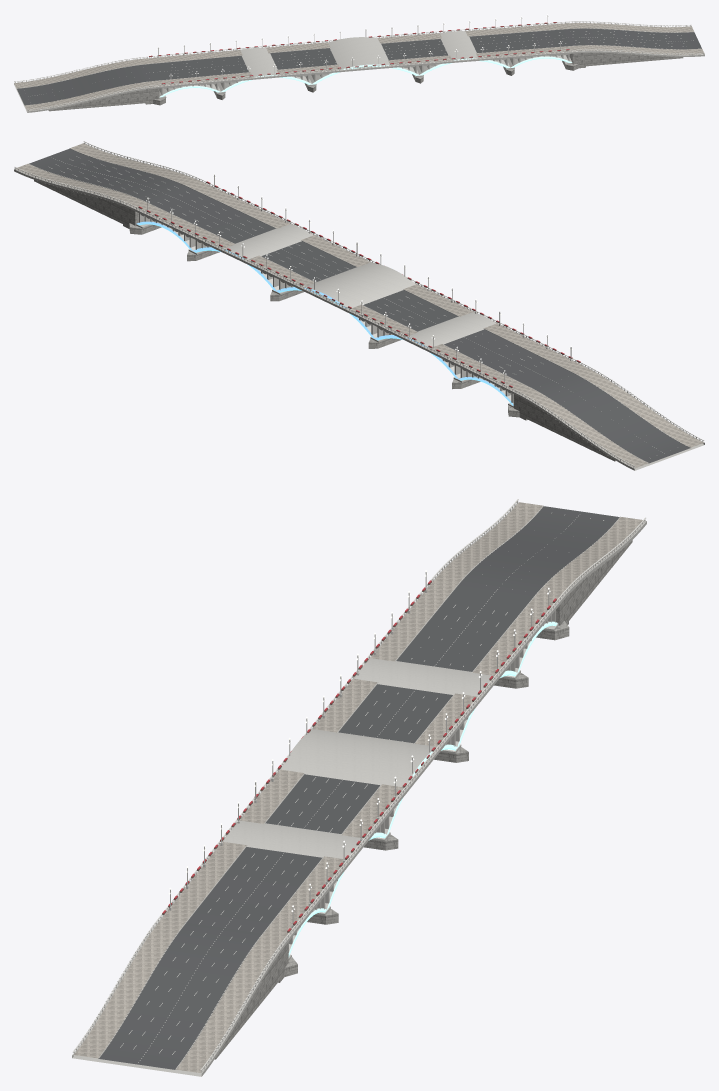
The model's file is jiefangqiao-far.glb.
3 renders of one model, top to bottom at view 1: azimuth 30°, elevation 25°; view 2: azimuth 150°, elevation 25°; view 3: azimuth 270°, elevation 25°, orthographic. The views are drawn at different scales.
Visible parts, largest first — view 1: jiefangqiao-asphalt, jiefangqiao-concrete, jiefangqiao-paving, jiefangqiao-rail, jiefangqiao-stone, jiefangqiao-archface, jiefangqiao-flower, jiefangqiao-planter, jiefangqiao-led, jiefangqiao-marking; view 2: jiefangqiao-asphalt, jiefangqiao-paving, jiefangqiao-concrete, jiefangqiao-rail, jiefangqiao-stone, jiefangqiao-archface, jiefangqiao-flower, jiefangqiao-planter; view 3: jiefangqiao-asphalt, jiefangqiao-paving, jiefangqiao-concrete, jiefangqiao-rail, jiefangqiao-stone, jiefangqiao-flower, jiefangqiao-archface.
Part boxes in pixels (x1,y1,x2,y2): jiefangqiao-asphalt: (17,28,701,105); jiefangqiao-concrete: (14,23,704,112); jiefangqiao-paving: (14,23,704,110); jiefangqiao-rail: (14,15,704,110); jiefangqiao-stone: (48,52,683,111); jiefangqiao-archface: (159,56,572,97); jiefangqiao-flower: (149,22,569,83); jiefangqiao-planter: (149,22,569,84); jiefangqiao-led: (161,58,569,97); jiefangqiao-marking: (37,31,693,95); jiefangqiao-asphalt: (29,148,690,463); jiefangqiao-paving: (15,143,703,467); jiefangqiao-concrete: (14,143,704,470); jiefangqiao-rail: (14,141,704,467); jiefangqiao-stone: (34,179,615,461); jiefangqiao-archface: (136,221,513,405); jiefangqiao-flower: (139,181,580,387); jiefangqiao-planter: (138,182,580,387); jiefangqiao-asphalt: (99,506,619,1069); jiefangqiao-paving: (74,502,643,1072); jiefangqiao-concrete: (72,504,646,1076); jiefangqiao-rail: (73,499,645,1072); jiefangqiao-stone: (215,539,632,1059); jiefangqiao-flower: (162,580,556,931); jiefangqiao-archface: (288,621,557,955).
Bounding box in the file's own units: 445 × 21.07 × 189.
12 materials, 5 textured.
